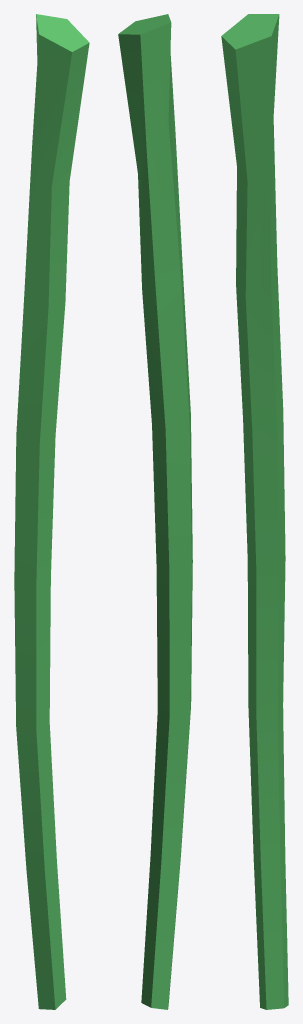
Rendered from roots_solo_B_E.fbx.
3 renders of one model, left to right at view 1: azimuth 30°, elevation 25°; view 2: azimuth 210°, elevation 25°; view 3: azimuth 270°, elevation 25°, orthographic.
Visible parts, largest first — view 1: roots_solo_B_E; view 2: roots_solo_B_E; view 3: roots_solo_B_E.
Boxes of the visible parts, box(x1,y1,x2,y2) form: roots_solo_B_E: box(14, 14, 89, 1009); roots_solo_B_E: box(118, 14, 192, 1009); roots_solo_B_E: box(221, 14, 288, 1009).
Bounding box in the file's own units: 7.2 × 114 × 7.
